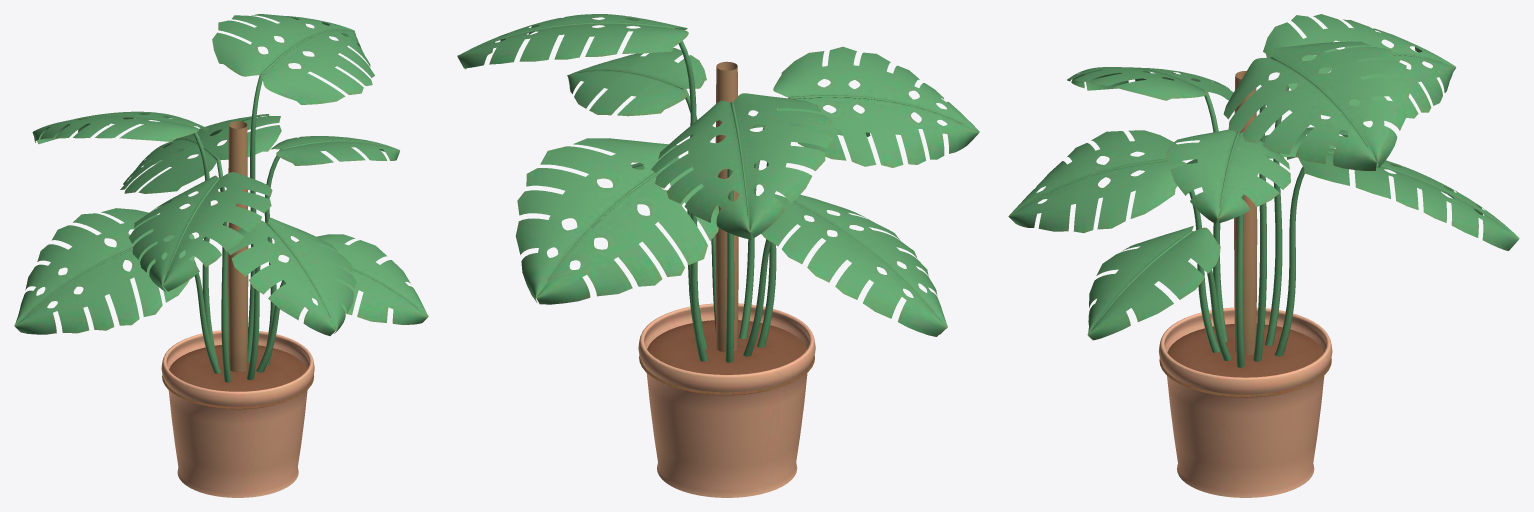
The model's file is monstera-plant.glb.
The picture shows the model from 3 angles, left to right: view 1: azimuth 30°, elevation 25°; view 2: azimuth 150°, elevation 25°; view 3: azimuth 270°, elevation 25°; orthographic projection. The views are drawn at different scales.
Parts seen in each view (by area): view 1: monstera-plant_body; view 2: monstera-plant_body; view 3: monstera-plant_body.
Part boxes in pixels (bbox=[...]): monstera-plant_body: bbox=[14, 14, 428, 497]; monstera-plant_body: bbox=[457, 14, 979, 497]; monstera-plant_body: bbox=[1008, 14, 1519, 497].
Bounding box in the file's own units: 1.11 × 1.09 × 1.14.
1 material, 1 textured.
